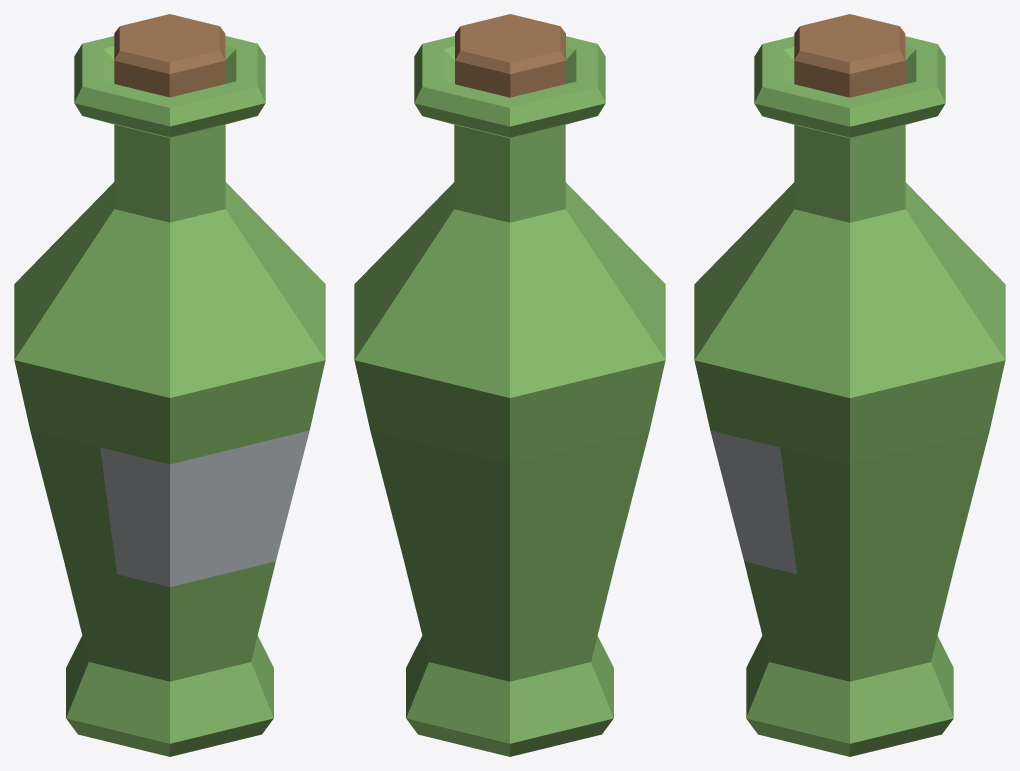
File: Green_Potion_8(Label).fbx
The picture shows the model from 3 angles, left to right: view 1: azimuth 30°, elevation 25°; view 2: azimuth 150°, elevation 25°; view 3: azimuth 270°, elevation 25°; orthographic projection.
Visible parts, largest first — view 1: Green_Potion_8(Label); view 2: Green_Potion_8(Label); view 3: Green_Potion_8(Label).
Boxes of the visible parts, x1=… form: Green_Potion_8(Label): x1=14, y1=14, x2=325, y2=756; Green_Potion_8(Label): x1=354, y1=14, x2=665, y2=756; Green_Potion_8(Label): x1=694, y1=14, x2=1005, y2=756.
Bounding box in the file's own units: 16.45 × 34.03 × 14.25.
